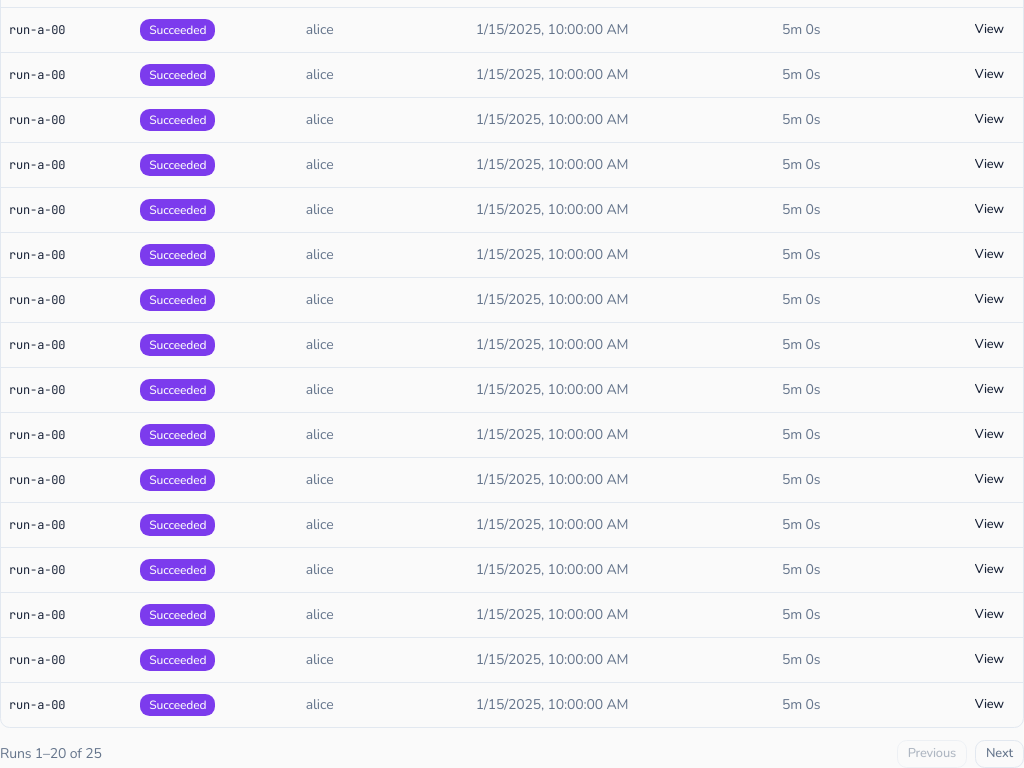
Test: RunList › pagination › returns to the previous page when Previous is clicked
This screenshot has width=1024, height=768.
(page scrolled)
Click the button "Next".
click(1000, 754)  # box [975,740,1023,767]
(page scrolled)
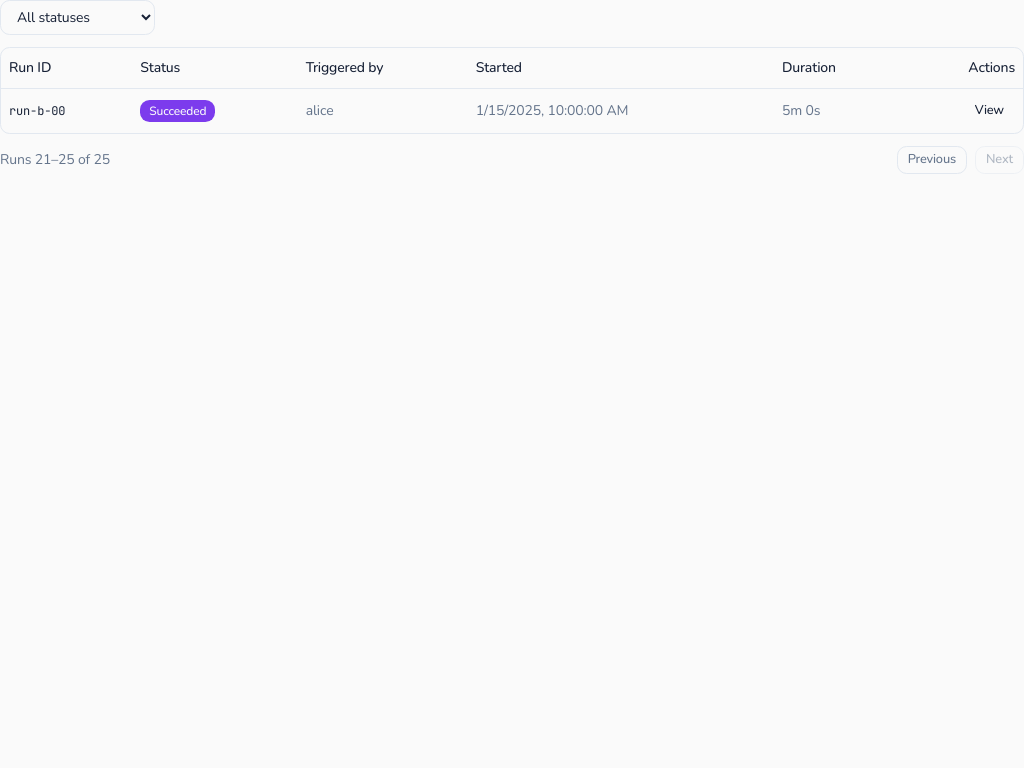
Check: the text "Runs 21–25 of 25" is shown, box [0,150,110,170]
Click the button "Previous".
click(932, 160)  # box [897,146,967,174]
(page scrolled)
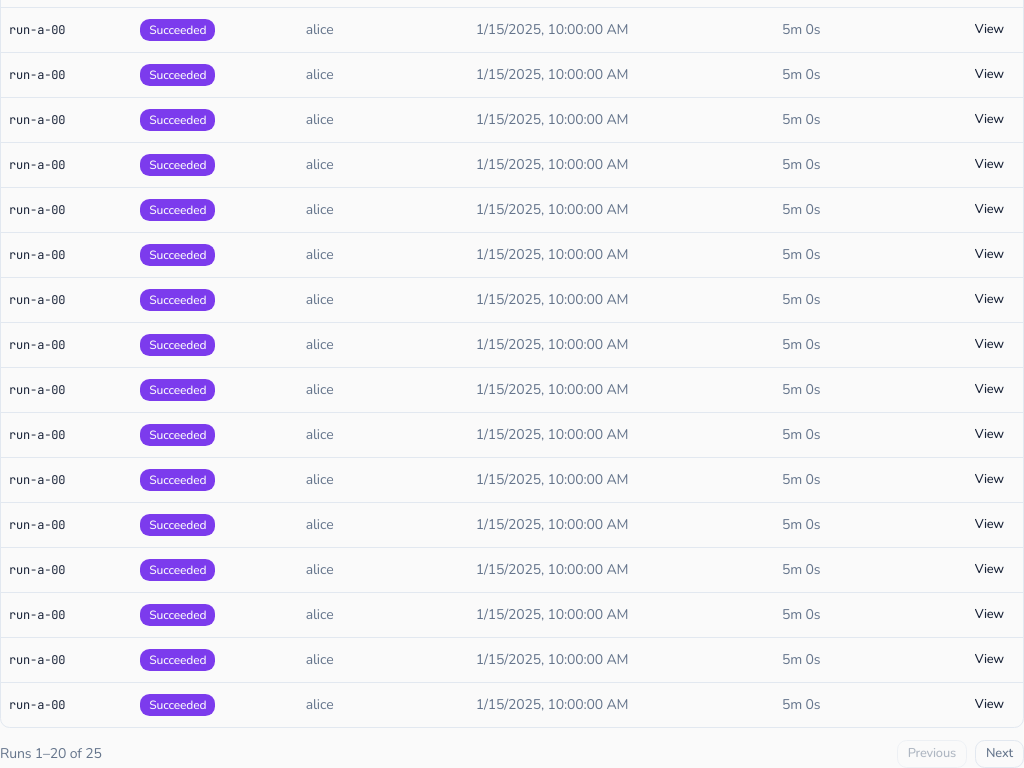
Check: the text "Runs 1–20 of 25" is shown, box [0,744,102,764]
